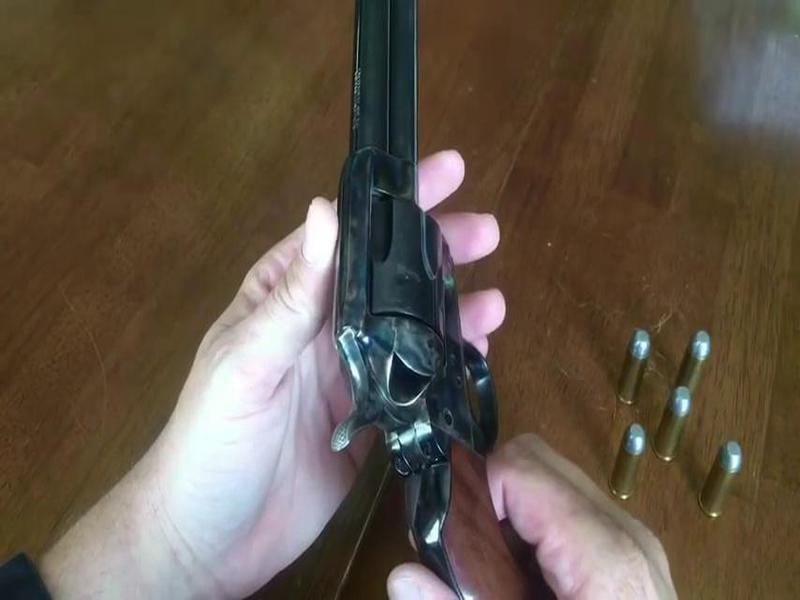Revolver: (312, 24, 557, 565)
